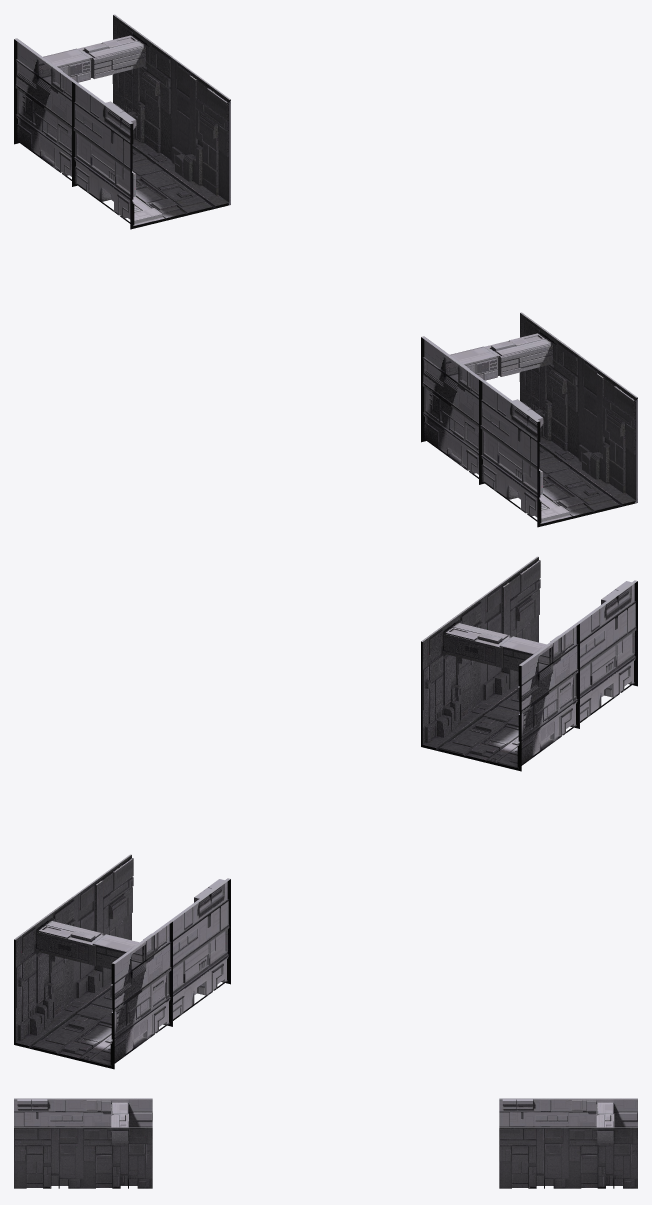
Rendered from luis copy 2.glb.
3 views of the same model, one above another, from view 1: azimuth 30°, elevation 25°; view 2: azimuth 150°, elevation 25°; view 3: azimuth 270°, elevation 25° (orthographic). The views are drawn at different scales.
Visible parts, largest first — view 1: trench_2.002, trench_2.009, trench_3.003, trench_3.000; view 2: trench_3.000, trench_3.003, trench_2.009, trench_2.002; view 3: trench_2.009, trench_3.000, trench_2.002, trench_3.003.
Part boxes in pixels (left/top/right/bottom): trench_2.002: left=72, top=57, right=230, bottom=229; trench_2.009: left=479, top=355, right=637, bottom=527; trench_3.003: left=421, top=312, right=579, bottom=478; trench_3.000: left=14, top=14, right=172, bottom=180; trench_3.000: left=14, top=897, right=172, bottom=1069; trench_3.003: left=421, top=599, right=579, bottom=771; trench_2.009: left=479, top=556, right=637, bottom=722; trench_2.002: left=72, top=854, right=230, bottom=1020; trench_2.009: left=14, top=1098, right=83, bottom=1188; trench_3.000: left=568, top=1098, right=637, bottom=1188; trench_2.002: left=499, top=1098, right=568, bottom=1188; trench_3.003: left=83, top=1098, right=152, bottom=1188.
Size of the model in its own units: 12.6 by 12.6 by 113.
Materials: 2 (2 with a texture image).
